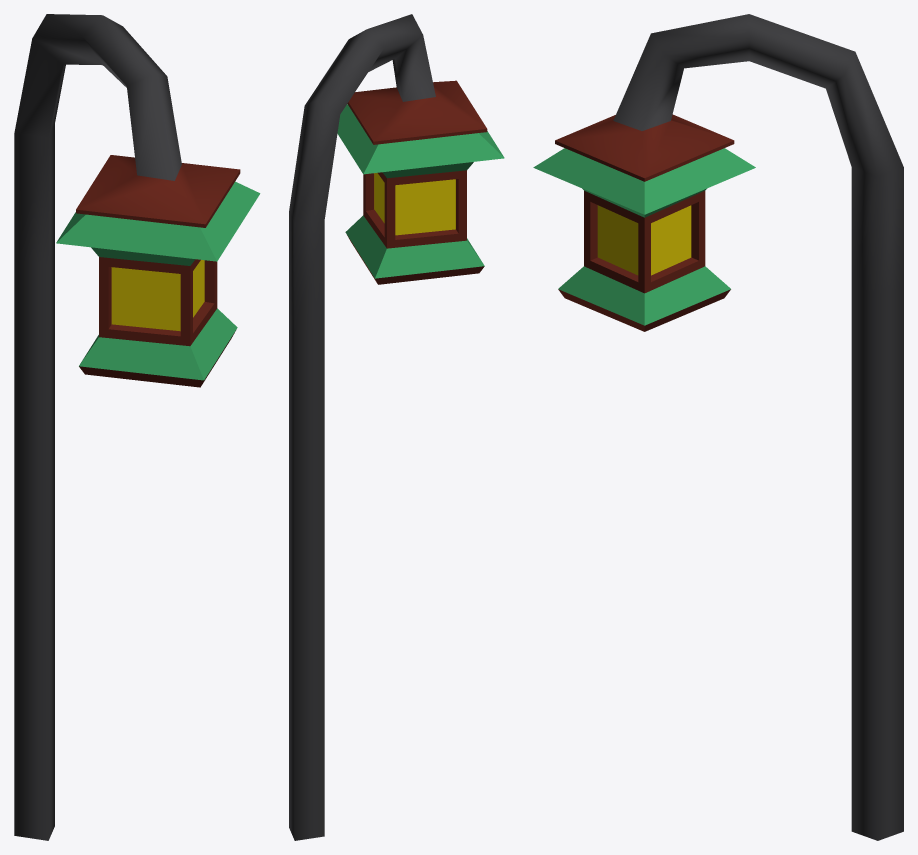
Rendered from lampchinaf.fbx.
3 renders of one model, left to right at view 1: azimuth 30°, elevation 25°; view 2: azimuth 150°, elevation 25°; view 3: azimuth 270°, elevation 25°, orthographic. The views are drawn at different scales.
Parts seen in each view (by area): view 1: Cylinder002; view 2: Cylinder002; view 3: Cylinder002.
Boxes of the visible parts, x1=… form: Cylinder002: x1=14, y1=14, x2=260, y2=840; Cylinder002: x1=289, y1=14, x2=504, y2=840; Cylinder002: x1=533, y1=14, x2=903, y2=840.
Size of the model in its own units: 167 by 674 by 277.
